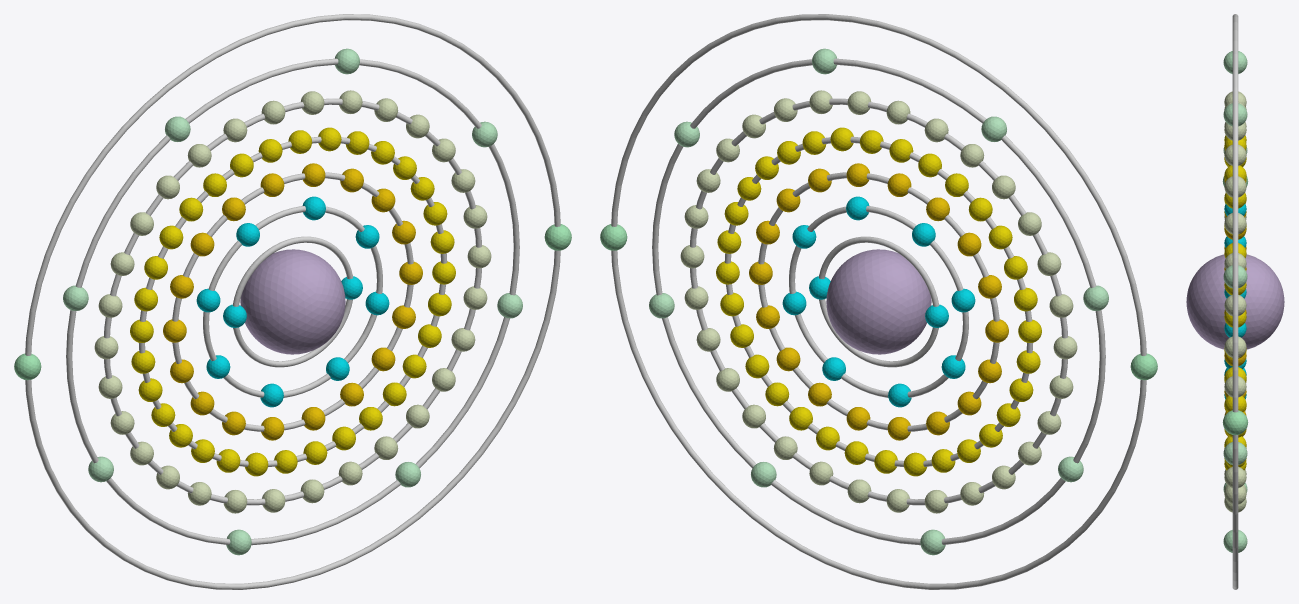
3 renders of one model, left to right at view 1: azimuth 30°, elevation 25°; view 2: azimuth 150°, elevation 25°; view 3: azimuth 270°, elevation 25°, orthographic. The views are drawn at different scales.
Parts seen in each view (by area): view 1: world; view 2: world; view 3: world.
Part boxes in pixels (x1,y1,x2,y2): world: (14, 14, 571, 589); world: (600, 14, 1157, 589); world: (1186, 14, 1284, 589).
Size of the model in its own units: 2.67 by 2.59 by 0.44.
